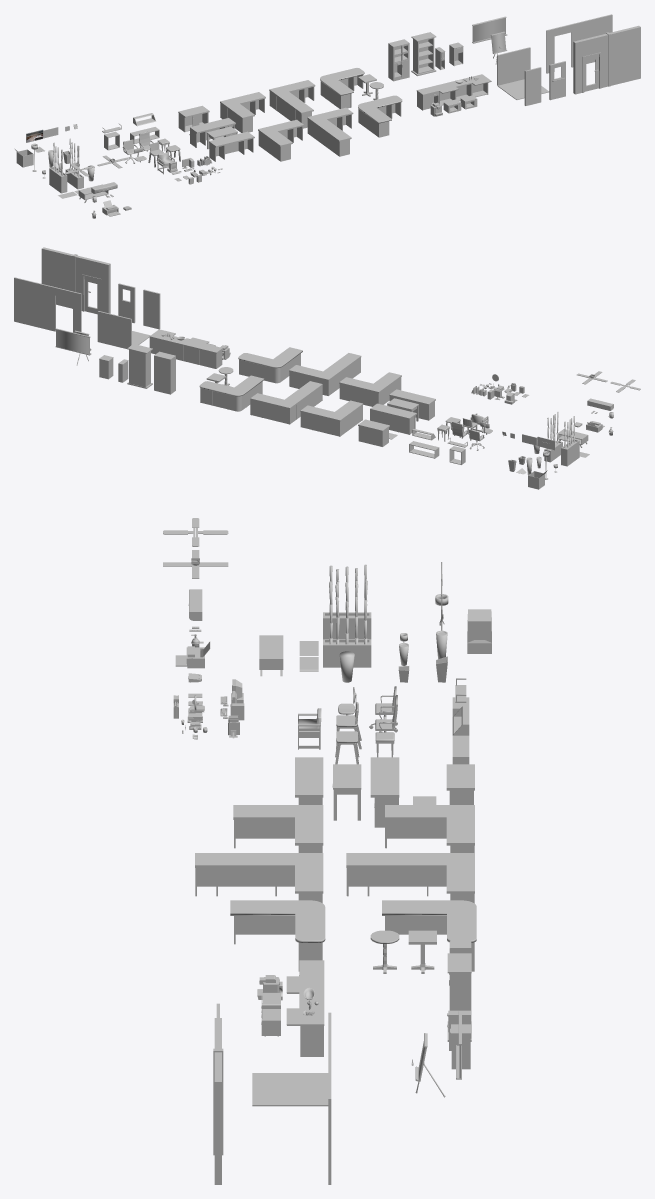
Rendered from Office Set - VNB.dae.
3 views of the same model, one above another, from view 1: azimuth 30°, elevation 25°; view 2: azimuth 150°, elevation 25°; view 3: azimuth 270°, elevation 25° (orthographic). The views are drawn at different scales.
Parts seen in each view (by area): view 1: Wall_Standard, Office_Desk_4_Two_Alt, Office_Desk_4_Two, Wall_Standard_Door, Office_Desk_4_Rounded_Alt, Office_Desk_4_Alt, Office_Desk_4_Rounded, Office_Desk_4, Wall_Small, Bookshelf, Office_Desk_3_Alt, Wall_Medium_Door (+14 smaller); view 2: Office_Desk_4_Two, Office_Desk_4_Two_Alt, Office_Desk_4, Wall_Medium, Office_Desk_4_Rounded, Office_Desk_4_Rounded_Alt, Office_Desk_4_Alt, Wall_Standard, Wall_Standard_Door, Wall_Small, Office_Desk_3, Bookshelf (+13 smaller); view 3: Office_Desk_4_Two, Office_Desk_4_Two_Alt, Office_Desk_4_Rounded_Alt, Office_Desk_4_Alt, Office_Desk_4, Office_Desk_4_Rounded, Floor, Office_Desk_3, Bookshelf, Office_CounterB2, Office_Desk_3_Alt, Nature_Deco_Small (+6 smaller).
Part boxes in pixels (x1,y1,x2,y2): Wall_Standard: (610, 25, 640, 85); Office_Desk_4_Two_Alt: (307, 107, 353, 156); Office_Desk_4_Two: (269, 80, 315, 128); Wall_Standard_Door: (573, 34, 608, 94); Office_Desk_4_Rounded_Alt: (358, 95, 402, 137); Office_Desk_4_Alt: (258, 119, 303, 161); Office_Desk_4_Rounded: (320, 68, 364, 108); Office_Desk_4: (220, 92, 265, 132); Wall_Small: (497, 47, 530, 85); Bookshelf: (411, 32, 436, 76); Office_Desk_3_Alt: (209, 131, 254, 161); Wall_Medium_Door: (546, 22, 579, 73); Office_Desk_4_Two: (250, 381, 322, 424); Office_Desk_4_Two_Alt: (289, 353, 361, 395); Office_Desk_4: (300, 400, 363, 436); Wall_Medium: (14, 277, 47, 329); Office_Desk_4_Rounded: (199, 375, 264, 411); Office_Desk_4_Rounded_Alt: (238, 347, 302, 383); Office_Desk_4_Alt: (339, 372, 401, 406); Wall_Standard: (41, 247, 73, 308); Wall_Standard_Door: (75, 255, 110, 313); Wall_Small: (97, 311, 131, 348); Office_Desk_3: (370, 403, 416, 434); Bookshelf: (127, 344, 152, 388); Office_Desk_4_Two: (346, 853, 474, 903); Office_Desk_4_Two_Alt: (195, 853, 323, 902); Office_Desk_4_Rounded_Alt: (230, 900, 325, 971); Office_Desk_4_Alt: (233, 805, 323, 852); Office_Desk_4: (385, 805, 474, 852); Office_Desk_4_Rounded: (382, 900, 476, 971); Floor: (252, 1073, 328, 1106); Office_Desk_3: (370, 757, 399, 827); Bookshelf: (447, 953, 471, 1041); Office_CounterB2: (286, 1008, 324, 1056); Office_Desk_3_Alt: (295, 757, 323, 804); Nature_Deco_Small: (323, 639, 371, 667).
Size of the model in its own units: 35.38 by 8.69 by 3.13.
